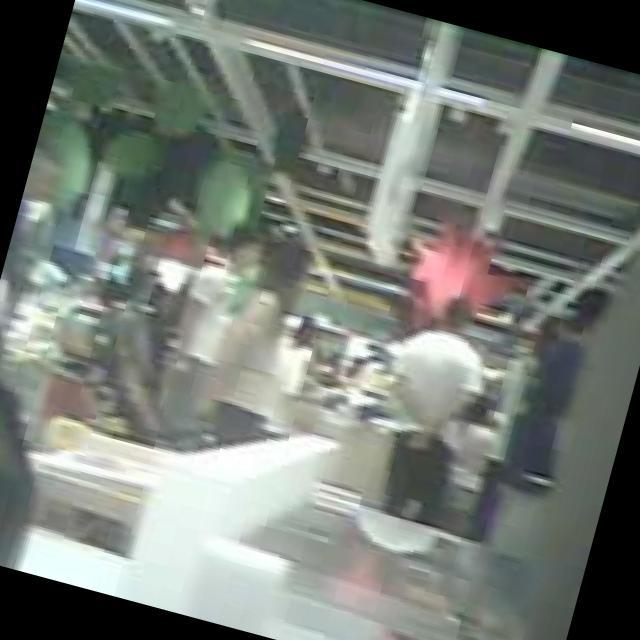person: (349, 282, 506, 528), (502, 278, 628, 507), (190, 225, 322, 440), (154, 214, 268, 422)
